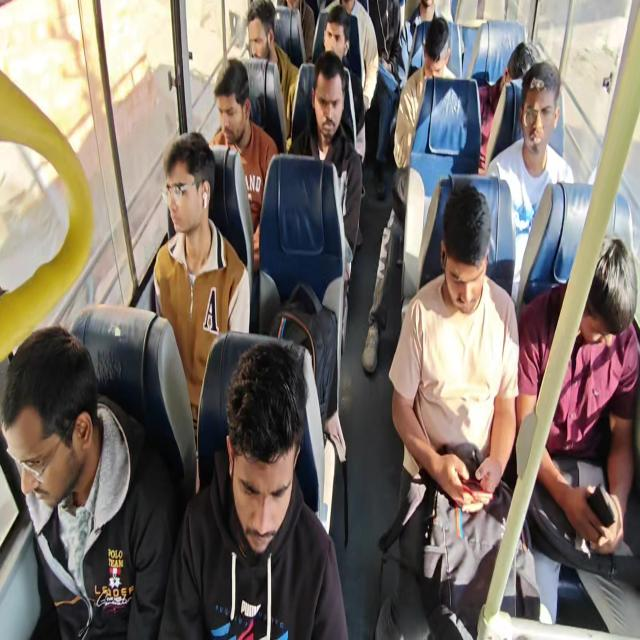person: (2, 1, 637, 638), (375, 181, 537, 638), (158, 340, 349, 639), (1, 324, 177, 638), (516, 234, 639, 628), (153, 130, 251, 486), (362, 16, 457, 374), (485, 60, 574, 305), (287, 51, 363, 289), (210, 58, 280, 272), (392, 17, 457, 224), (245, 0, 300, 141), (477, 41, 537, 170), (321, 5, 366, 164), (340, 0, 379, 112), (396, 0, 439, 92), (365, 0, 401, 73), (276, 0, 315, 63)
